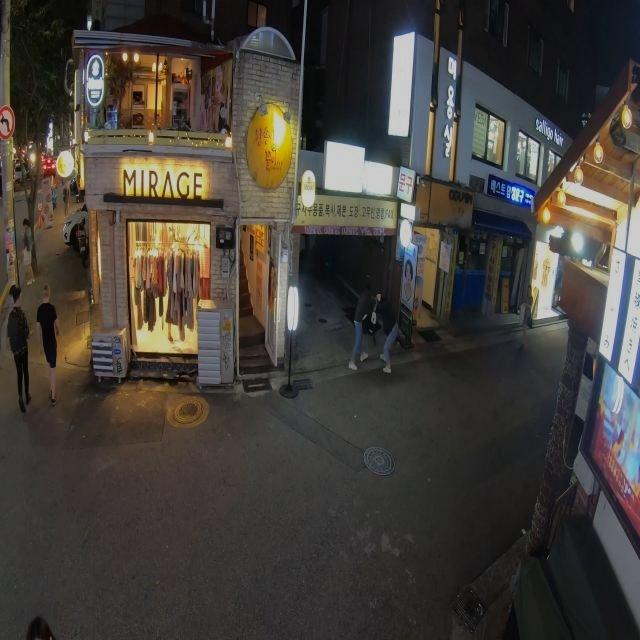fight: (348, 277, 409, 378)
non-fight: (6, 288, 32, 411), (36, 285, 60, 405)
